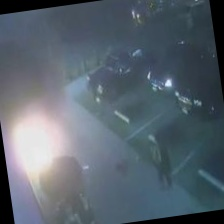fire: (5, 102, 72, 199)
